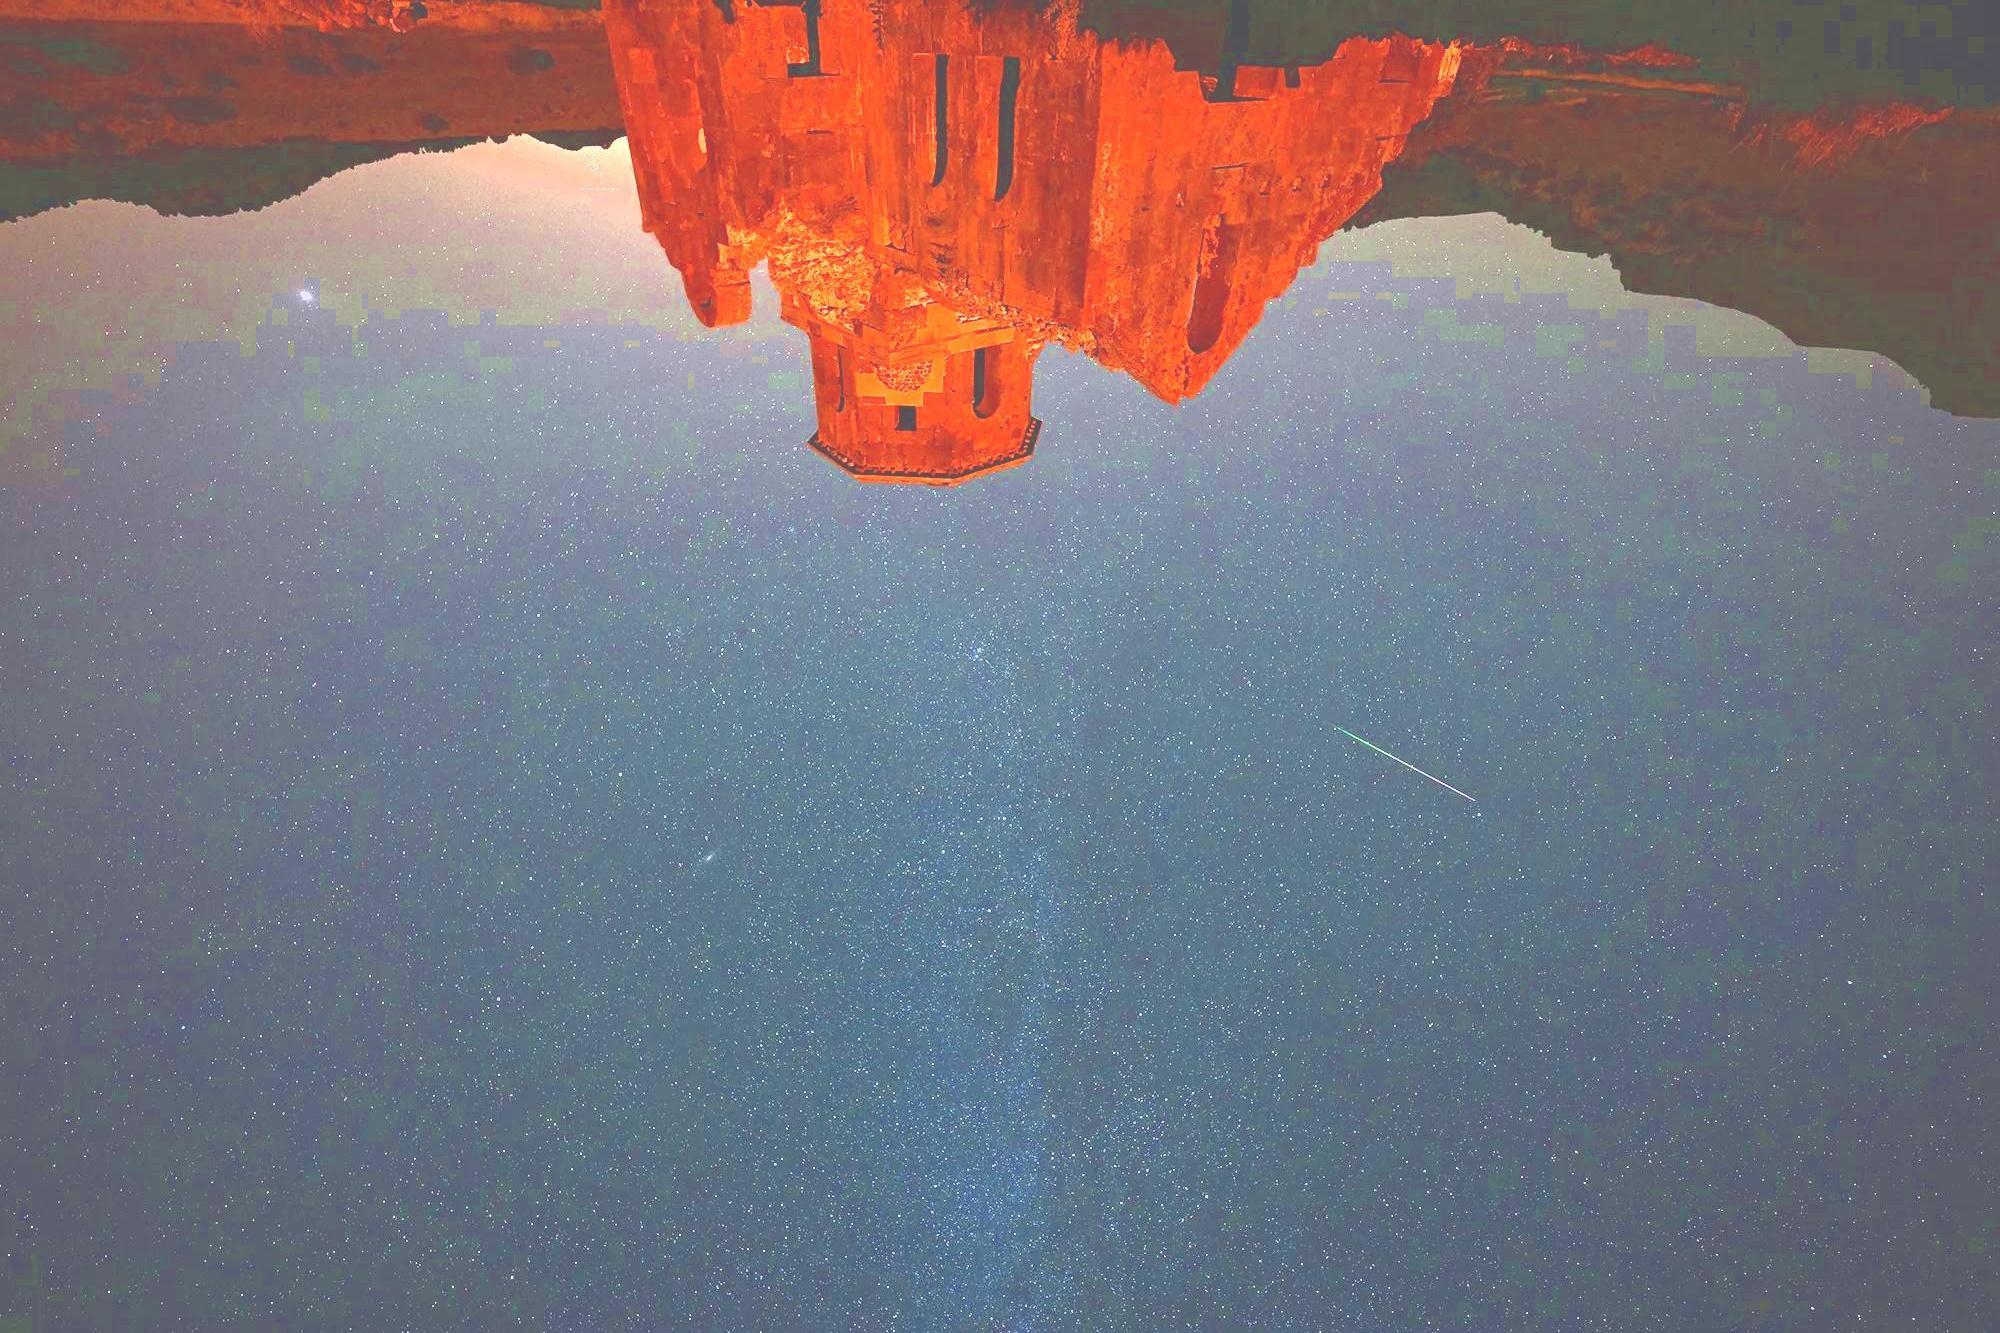meteorite: (1312, 710, 1503, 821)
